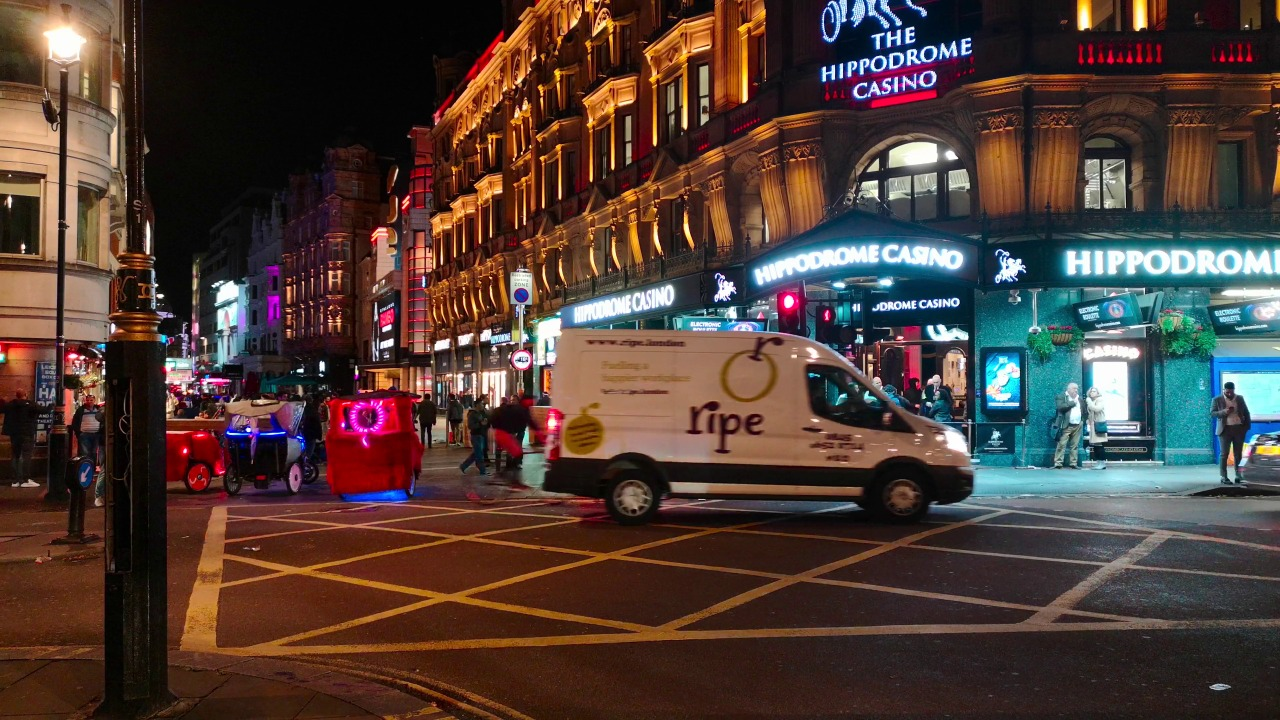car: (545, 328, 977, 528), (308, 399, 429, 499), (222, 397, 309, 492), (158, 428, 240, 499), (1234, 423, 1280, 501)
person: (1207, 377, 1257, 488), (2, 385, 44, 490), (1045, 380, 1093, 471), (1083, 386, 1119, 474), (488, 393, 521, 478), (73, 388, 97, 491), (92, 402, 112, 509), (508, 396, 529, 473), (464, 398, 484, 477), (417, 392, 440, 451), (926, 389, 958, 423), (444, 390, 462, 447), (879, 384, 912, 415), (314, 394, 338, 433), (864, 373, 887, 412), (926, 374, 955, 394), (838, 381, 863, 403), (477, 392, 492, 410)
